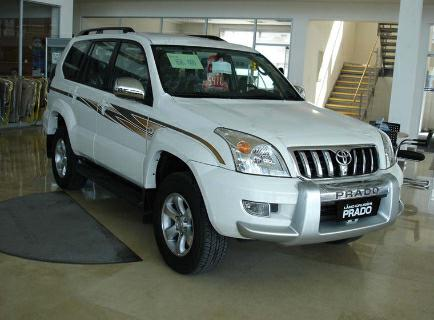丰田-普拉多: (37, 24, 409, 274)
